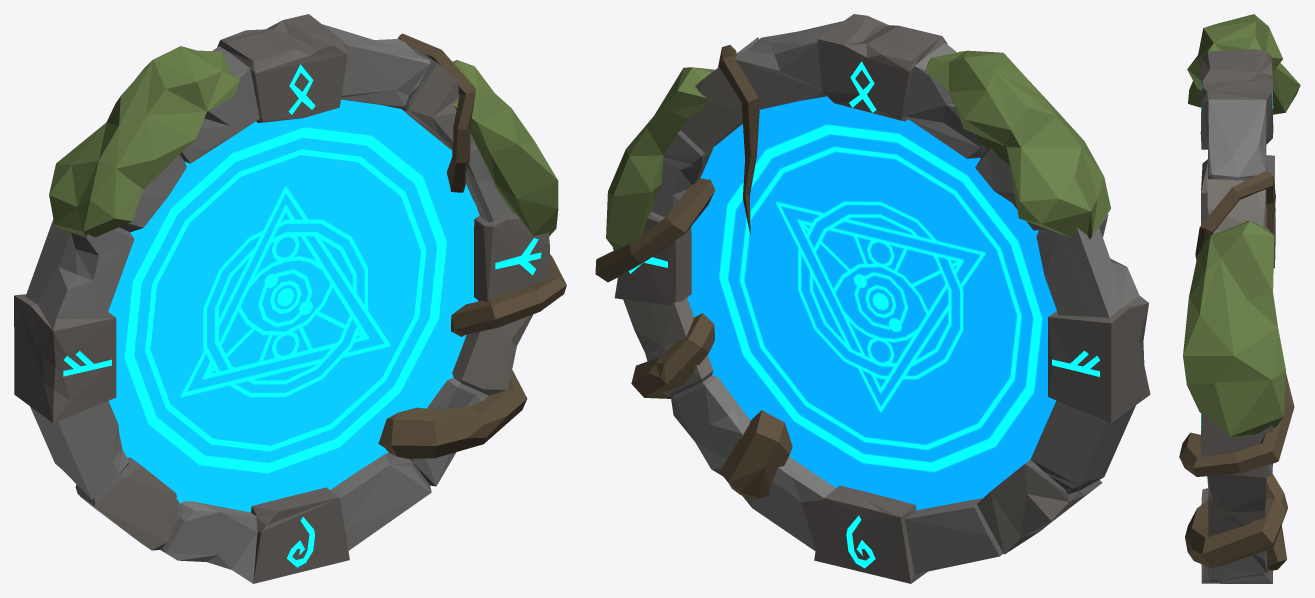
Rendered from Portal-LowPoly Model.fbx.
3 views of the same model, side by side, from view 1: azimuth 30°, elevation 25°; view 2: azimuth 150°, elevation 25°; view 3: azimuth 270°, elevation 25° (orthographic). The views are drawn at different scales.
Visible parts, largest first — view 1: Portal_01, Portal_01_Hole; view 2: Portal_01, Portal_01_Hole; view 3: Portal_01.
Boxes of the visible parts, x1,y1,x2,y2 form: Portal_01: (14, 14, 566, 583); Portal_01_Hole: (108, 99, 479, 512); Portal_01: (595, 14, 1150, 583); Portal_01_Hole: (687, 96, 1056, 510); Portal_01: (1179, 14, 1300, 583).
Bounding box in the file's own units: 210 × 205 × 45.24.
